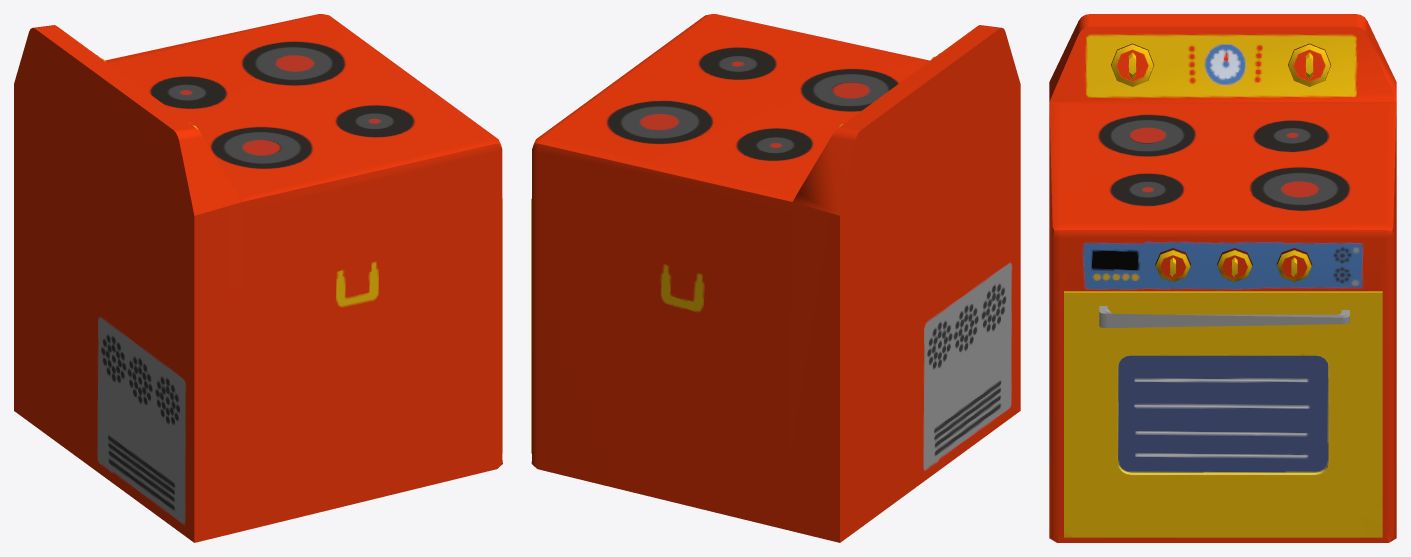
File: Kitchen_Oven.fbx
The picture shows the model from 3 angles, left to right: view 1: azimuth 30°, elevation 25°; view 2: azimuth 150°, elevation 25°; view 3: azimuth 270°, elevation 25°; orthographic projection. The views are drawn at different scales.
Visible parts, largest first — view 1: polySurface19; view 2: polySurface19; view 3: polySurface19, polySurface23.
Boxes of the visible parts, box(x1,y1,x2,y2) form: polySurface19: box(14, 14, 502, 542); polySurface19: box(531, 14, 1020, 542); polySurface19: box(1049, 14, 1396, 542); polySurface23: box(1064, 291, 1382, 537).
Bounding box in the file's own units: 9.78 × 11.18 × 9.2.
